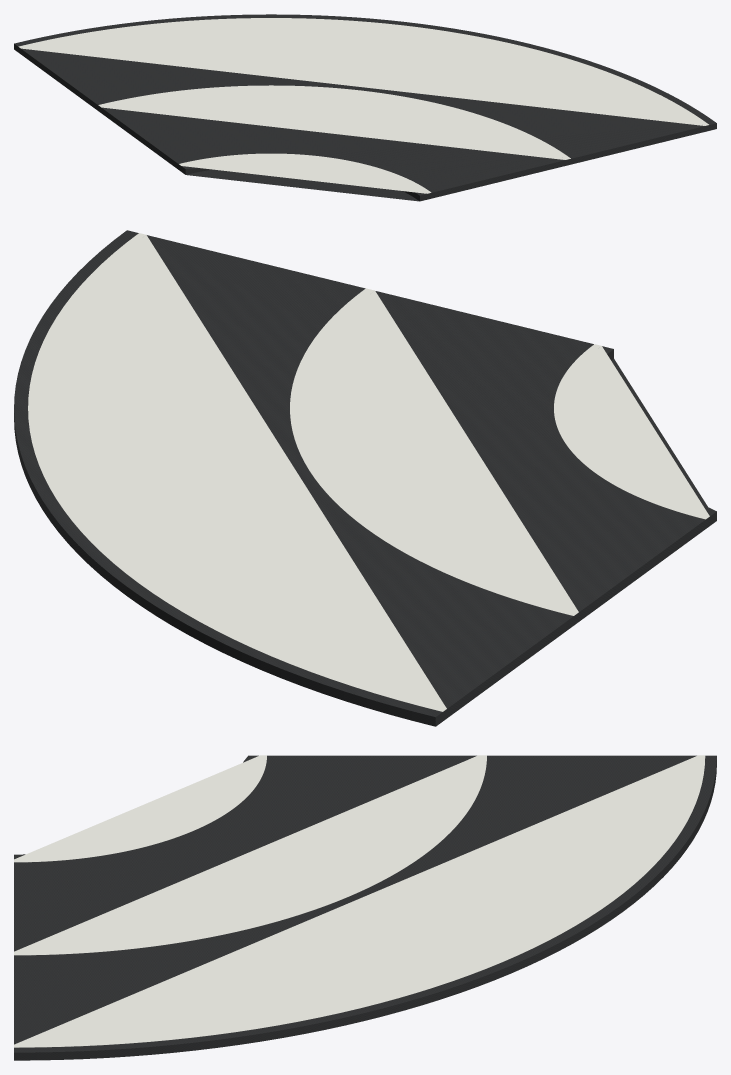
The model's file is OAR_Road_Curve90_Right.fbx.
3 views of the same model, one above another, from view 1: azimuth 30°, elevation 25°; view 2: azimuth 150°, elevation 25°; view 3: azimuth 270°, elevation 25° (orthographic). The views are drawn at different scales.
Visible parts, largest first — view 1: Markings.009_Mesh, Body; view 2: Markings.009_Mesh, Body; view 3: Markings.009_Mesh, Body.
Part boxes in pixels (left/top/right/bottom): Markings.009_Mesh: left=18, top=18, right=708, bottom=193; Body: left=14, top=14, right=716, bottom=201; Markings.009_Mesh: left=28, top=233, right=709, bottom=711; Body: left=14, top=230, right=716, bottom=726; Markings.009_Mesh: left=14, top=755, right=705, bottom=1047; Body: left=14, top=755, right=716, bottom=1060.
Size of the model in its own units: 12 by 0.153 by 12.
